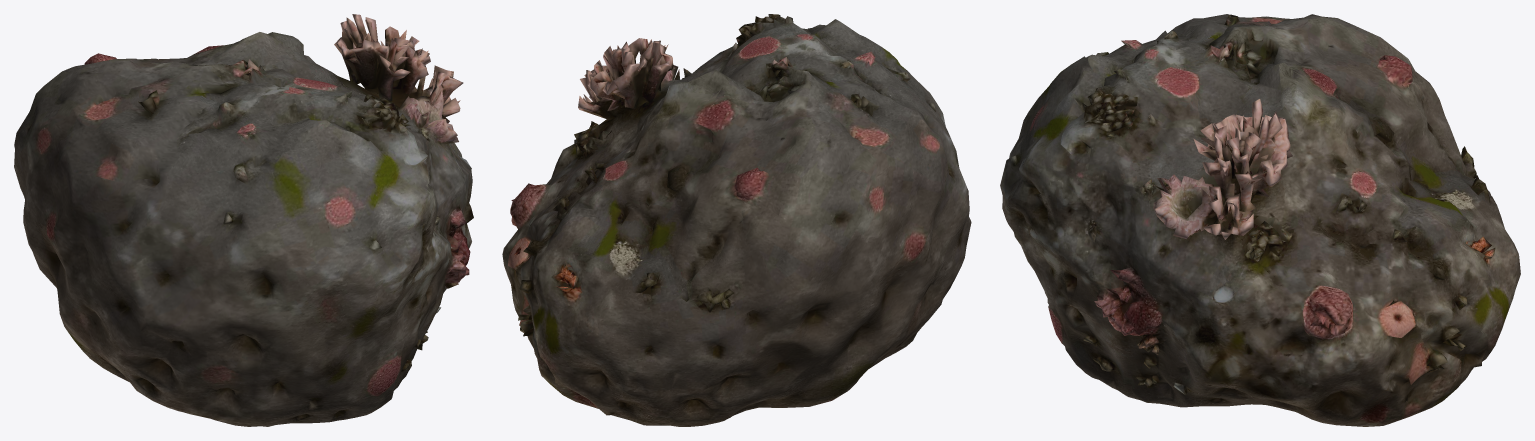
Rendered from boulder-a.glb.
3 renders of one model, left to right at view 1: azimuth 30°, elevation 25°; view 2: azimuth 150°, elevation 25°; view 3: azimuth 270°, elevation 25°, orthographic. The views are drawn at different scales.
Visible parts, largest first — view 1: tripo_node_582008b1-9b51-40f5-940e-adcfcbfe7aec; view 2: tripo_node_582008b1-9b51-40f5-940e-adcfcbfe7aec; view 3: tripo_node_582008b1-9b51-40f5-940e-adcfcbfe7aec.
Boxes of the visible parts, left/top/right/bottom form: tripo_node_582008b1-9b51-40f5-940e-adcfcbfe7aec: left=14, top=14, right=473, bottom=426; tripo_node_582008b1-9b51-40f5-940e-adcfcbfe7aec: left=502, top=14, right=971, bottom=426; tripo_node_582008b1-9b51-40f5-940e-adcfcbfe7aec: left=1000, top=14, right=1520, bottom=426.
Size of the model in its own units: 0.891 by 0.6608 by 1.
Materials: 1 (1 with a texture image).
